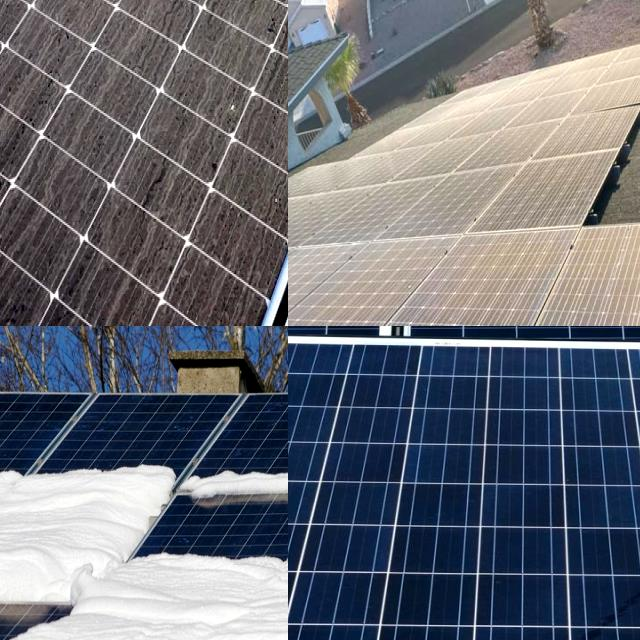crack: (288, 336, 640, 640), (395, 326, 640, 410), (288, 326, 439, 392)
dust: (0, 0, 150, 179), (145, 190, 288, 326), (0, 190, 125, 326), (30, 0, 191, 92), (191, 0, 288, 143), (444, 235, 565, 326), (526, 66, 630, 150), (343, 236, 428, 326), (204, 0, 288, 88), (288, 245, 351, 326), (288, 195, 416, 234), (0, 0, 46, 108), (446, 93, 514, 165), (521, 154, 582, 220), (441, 187, 516, 234), (368, 140, 438, 182), (314, 155, 364, 193), (288, 264, 317, 326), (288, 213, 304, 244)
panel: (51, 446, 180, 526), (0, 455, 182, 502), (185, 450, 288, 509), (210, 525, 288, 596), (120, 524, 204, 588), (0, 553, 63, 626), (0, 440, 77, 497), (0, 558, 58, 623), (71, 554, 115, 630), (0, 474, 25, 545)
